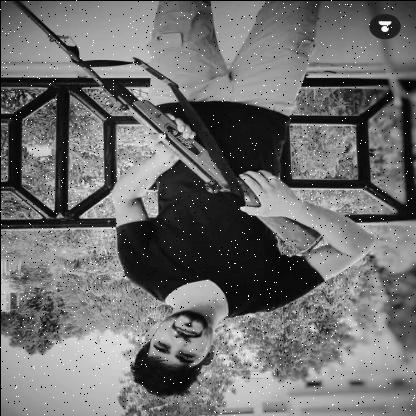rifle: (12, 0, 323, 256)
